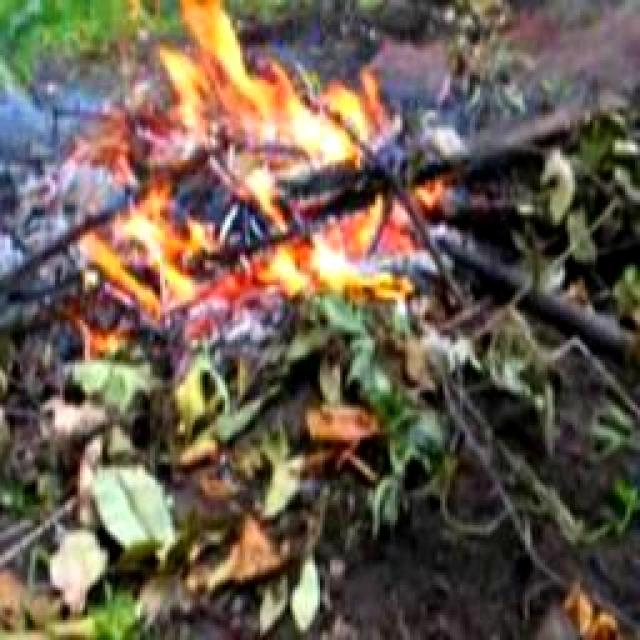fire: (94, 6, 410, 327)
